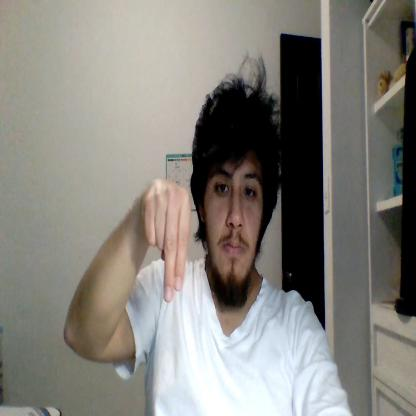N: (144, 178, 191, 303)
